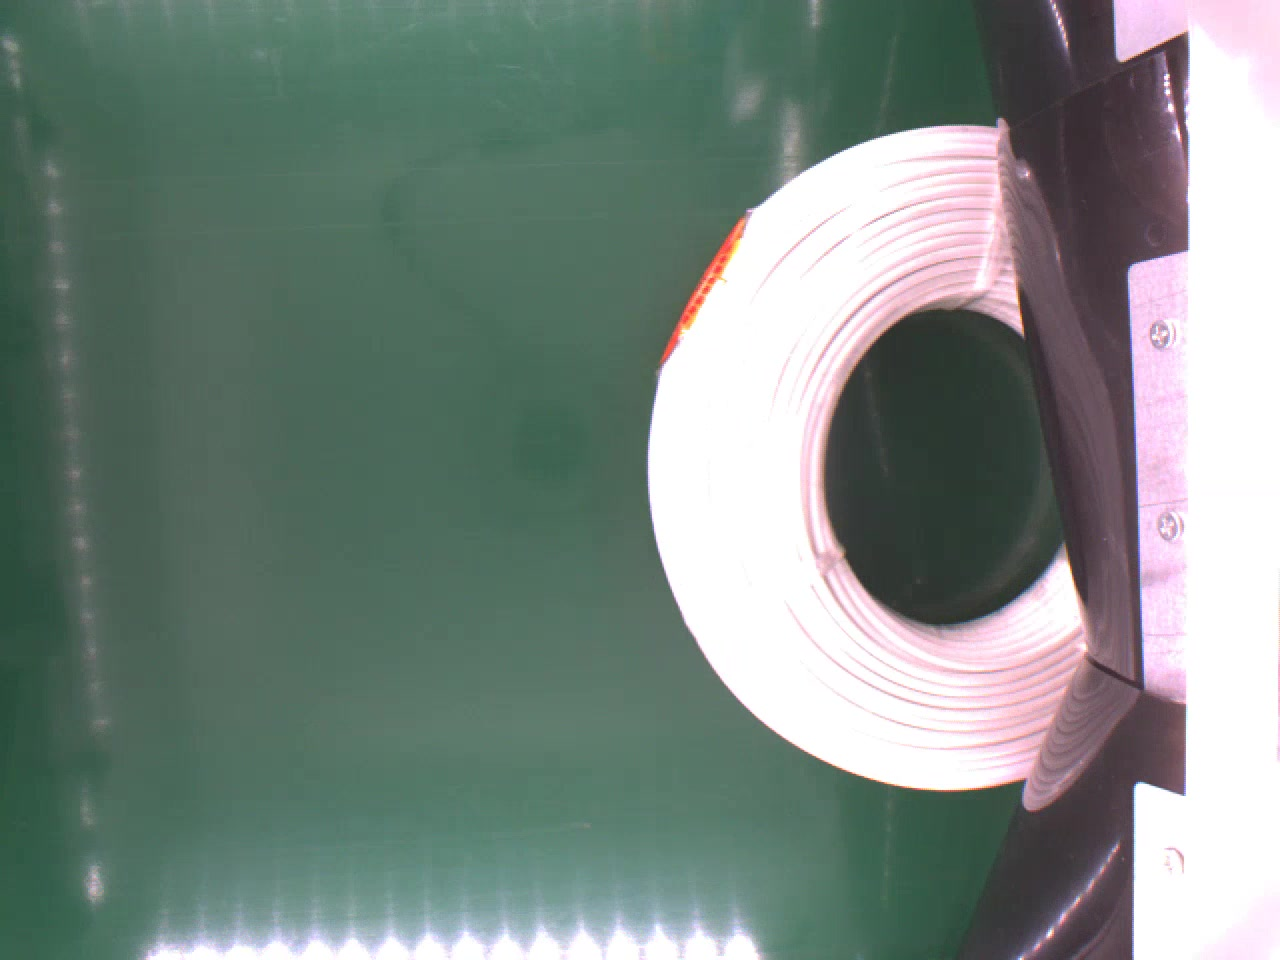white: (644, 122, 1085, 792)
